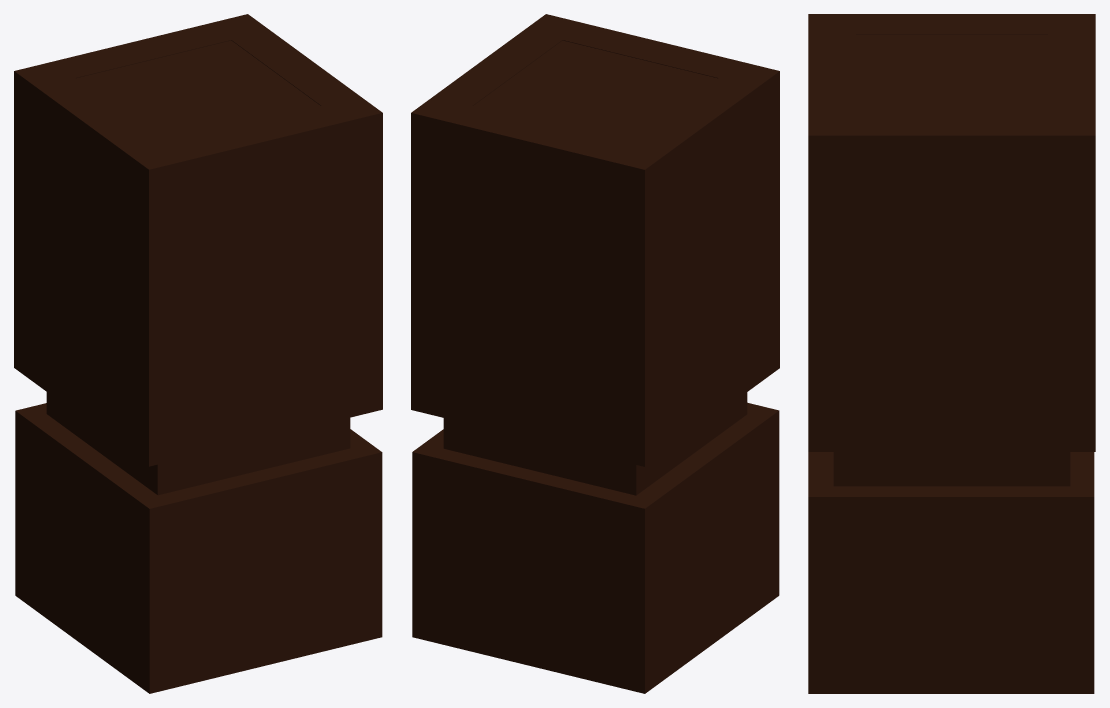
3 renders of one model, left to right at view 1: azimuth 30°, elevation 25°; view 2: azimuth 150°, elevation 25°; view 3: azimuth 270°, elevation 25°, orthographic. The views are drawn at different scales.
Parts seen in each view (by area): view 1: 四角2_茶; view 2: 四角2_茶; view 3: 四角2_茶.
Part boxes in pixels (x1,y1,x2,y2): 四角2_茶: [14, 14, 382, 693]; 四角2_茶: [411, 14, 779, 693]; 四角2_茶: [808, 14, 1095, 693].
Bounding box in the file's own units: 0.0243 × 0.0522 × 0.0243.
